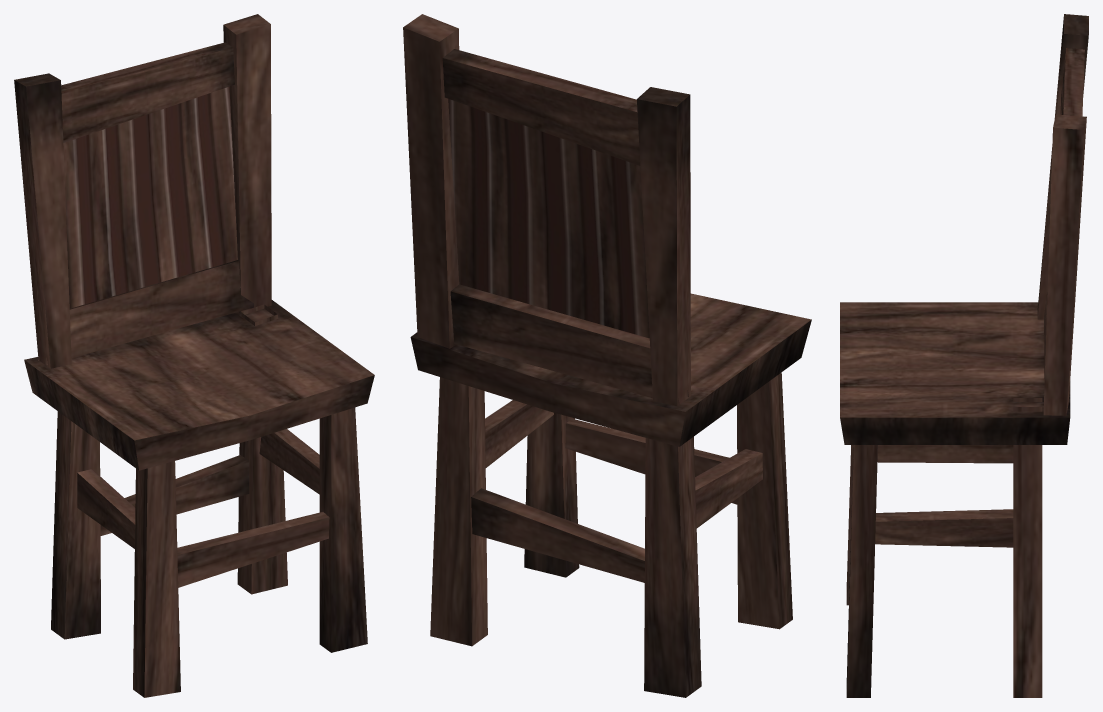
File: chair_bank.fbx
3 views of the same model, side by side, from view 1: azimuth 30°, elevation 25°; view 2: azimuth 150°, elevation 25°; view 3: azimuth 270°, elevation 25° (orthographic). The views are drawn at different scales.
Parts seen in each view (by area): view 1: bankchair_seat, bankchair_back, bankchair_backside2, bankchair_backside1, bankchair_leg3, bankchair_leg1, bankchair_backtop, bankchair_backbot, bankchair_leg4, bankchair_legsupport3, bankchair_leg2, bankchair_legsupport2 (+2 smaller); view 2: bankchair_back, bankchair_seat, bankchair_backside2, bankchair_backside1, bankchair_leg4, bankchair_leg2, bankchair_backbot, bankchair_backtop, bankchair_leg3, bankchair_legsupport2, bankchair_leg1, bankchair_back1 (+3 smaller); view 3: bankchair_seat, bankchair_backside1, bankchair_leg2, bankchair_leg1, bankchair_legsupport1, bankchair_legsupport4, bankchair_backside2, bankchair_backtop, bankchair_leg3.
Part boxes in pixels (x1,y1,x2,y2): bankchair_seat: [24, 300, 374, 470]; bankchair_back: [63, 86, 237, 308]; bankchair_backside2: [14, 73, 71, 368]; bankchair_backside1: [223, 14, 271, 313]; bankchair_leg3: [133, 461, 180, 697]; bankchair_leg1: [319, 407, 367, 652]; bankchair_backtop: [61, 42, 234, 142]; bankchair_backbot: [38, 260, 253, 364]; bankchair_leg4: [51, 411, 100, 639]; bankchair_legsupport3: [177, 512, 329, 587]; bankchair_leg2: [237, 304, 287, 594]; bankchair_legsupport2: [100, 455, 249, 535]; bankchair_back: [448, 99, 649, 338]; bankchair_seat: [410, 293, 811, 446]; bankchair_backside2: [637, 87, 690, 406]; bankchair_backside1: [403, 14, 459, 348]; bankchair_leg4: [644, 436, 701, 697]; bankchair_leg2: [430, 377, 487, 646]; bankchair_backbot: [450, 284, 688, 405]; bankchair_backtop: [442, 49, 640, 165]; bankchair_leg3: [737, 372, 792, 629]; bankchair_legsupport2: [471, 488, 644, 582]; bankchair_leg1: [524, 412, 579, 577]; bankchair_back1: [454, 101, 649, 337]; bankchair_seat: [840, 302, 1070, 444]; bankchair_backside1: [1043, 114, 1086, 415]; bankchair_leg2: [1013, 398, 1042, 697]; bankchair_leg1: [846, 445, 877, 697]; bankchair_legsupport1: [875, 509, 1013, 547]; bankchair_legsupport4: [877, 445, 1013, 463]; bankchair_backside2: [1037, 14, 1088, 319]; bankchair_backtop: [1060, 48, 1084, 116]; bankchair_leg3: [846, 445, 853, 605].
Bounding box in the file's own units: 145 × 315 × 124.
Materials: 2 (2 with a texture image).
